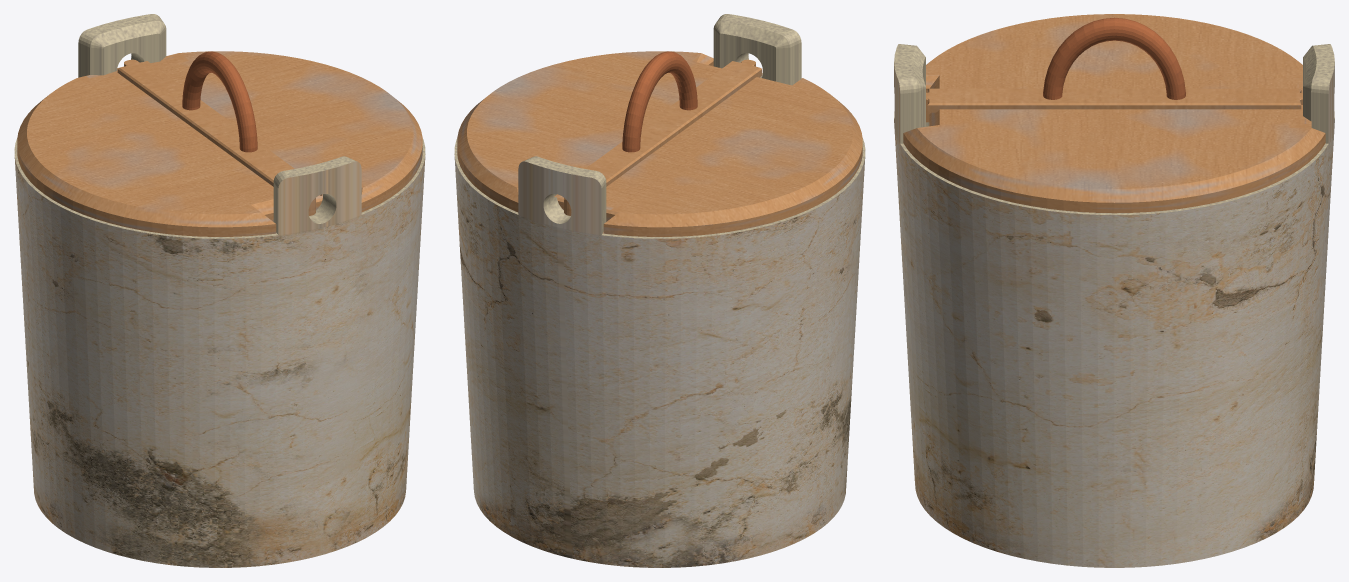
The model's file is Sanko.fbx.
3 renders of one model, left to right at view 1: azimuth 30°, elevation 25°; view 2: azimuth 150°, elevation 25°; view 3: azimuth 270°, elevation 25°, orthographic. The views are drawn at different scales.
Parts seen in each view (by area): view 1: Cylinder; view 2: Cylinder; view 3: Cylinder.
Boxes of the visible parts, x1,y1,x2,y2 form: Cylinder: (14, 14, 425, 567); Cylinder: (454, 14, 865, 567); Cylinder: (894, 14, 1334, 567).
Size of the model in its own units: 221 by 257 by 221.
4 materials, 4 textured.
